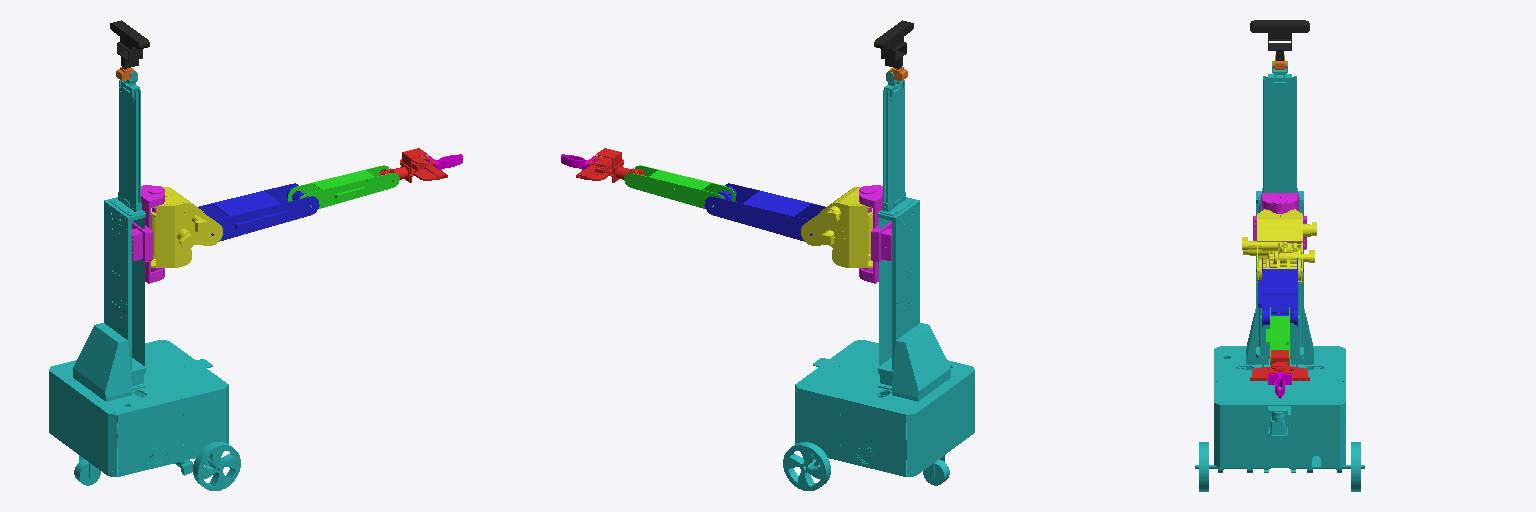
The robot description file, URDF, robot "XM_3_URDF_2":
<?xml version="1.0" ?>
<robot
  name="XM_3_URDF_2">

  <!--link base_link-->
  <link
    name="base_link">
    <inertial>
      <origin
        xyz="-0.03776 -0.00084976 0.016292"
        rpy="0 0 0" />
      <mass
        value="18.845" />
      <inertia
        ixx="1.4988"
        ixy="-0.0076372"
        ixz="-0.11172"
        iyy="1.5111"
        iyz="0.011979"
        izz="0.39888" />
    </inertial>
    <visual>
      <origin
        xyz="0 0 0"
        rpy="0 0 0" />
      <geometry>
        <mesh
          filename="package://xm_urdf/meshes/old_arm/base_link.STL" />
      </geometry>
      <material
        name="">
        <color
          rgba="0.2 0.75294 0.75294 1" />
      </material>
    </visual>
    <collision>
      <origin
        xyz="0 0 0"
        rpy="0 0 0" />
      <geometry>
        <mesh
          filename="package://xm_urdf/meshes/old_arm/base_link.STL" />
      </geometry>
    </collision>
  </link>

<!--link : link_elecatork-->
  <link
    name="link_elecator">
    <inertial>
      <origin
        xyz="0.042541 1.0533E-10 0.0015023"
        rpy="0 0 0" />
      <mass
        value="3.259" />
      <inertia
        ixx="0.022091"
        ixy="-2.6206E-16"
        ixz="0.00039271"
        iyy="0.020562"
        iyz="-7.2237E-17"
        izz="0.0089044" />
    </inertial>
    <visual>
      <origin
        xyz="0 0 0"
        rpy="0 0 0" />
      <geometry>
        <mesh
          filename="package://xm_urdf/meshes/old_arm/link_elecator.STL" />
      </geometry>
      <material
        name="">
        <color
          rgba="0.89804 0.2 0.92941 1" />
      </material>
    </visual>
    <collision>
      <origin
        xyz="0 0 0"
        rpy="0 0 0" />
      <geometry>
        <mesh
          filename="package://xm_urdf/meshes/old_arm/link_elecator.STL" />
      </geometry>
    </collision>
  </link>

<!--joint : joint_elecator-->
<!--parent:base_link-->
<!--child: link_elecator-->
  <joint
    name="joint_elecator"
    type="prismatic">
    <origin
      xyz="-0.057235 0 0.15056"
      rpy="-3.8337E-16 2.2077E-17 1.4935E-14" />
    <parent
      link="base_link" />
    <child
      link="link_elecator" />
    <axis
      xyz="0 0 -1" />
    <limit
      lower="-0.14"
      upper="-0.5"
      effort="0"
      velocity="0" />
  </joint>

<!--link : link_waist-->

  <link
    name="link_waist">
    <inertial>
      <origin
        xyz="0.073302 0.00035771 0.004568"
        rpy="0 0 0" />
      <mass
        value="2.6855" />
      <inertia
        ixx="0.015465"
        ixy="0.00013759"
        ixz="-0.00086987"
        iyy="0.018699"
        iyz="8.736E-05"
        izz="0.014831" />
    </inertial>
    <visual>
      <origin
        xyz="0 0 0"
        rpy="0 0 0" />
      <geometry>
        <mesh
          filename="package://xm_urdf/meshes/old_arm/link_waist.STL" />
      </geometry>
      <material
        name="">
        <color
          rgba="0.89804 0.91765 0.2 1" />
      </material>
    </visual>
    <collision>
      <origin
        xyz="0 0 0"
        rpy="0 0 0" />
      <geometry>
        <mesh
          filename="package://xm_urdf/meshes/old_arm/link_waist.STL" />
      </geometry>
    </collision>
  </link>

<!--joint : joint_waist-->
<!--parent:link_elecator-->
<!--child:link_waist-->
  <joint
    name="joint_waist"
    type="revolute">
    <origin
      xyz="0.105 0 0.0035"
      rpy="6.8618E-17 6.2554E-31 -1.6061E-15" />
    <parent
      link="link_elecator" />
    <child
      link="link_waist" />
    <axis
      xyz="0 0 1" />
    <limit
      lower="-1.04"
      upper="1.04"
      effort="0"
      velocity="0" />
  </joint>

  <!--link : link_big_arm-->
  <link
    name="link_big_arm">
    <inertial>
      <origin
        xyz="0.1981 -0.0038857 0.0039628"
        rpy="0 0 0" />
      <mass
        value="1.0832" />
      <inertia
        ixx="0.0026099"
        ixy="0.00013064"
        ixz="0.00027499"
        iyy="0.014832"
        iyz="2.6134E-06"
        izz="0.016351" />
    </inertial>
    <visual>
      <origin
        xyz="0 0 0"
        rpy="0 0 0" />
      <geometry>
        <mesh
          filename="package://xm_urdf/meshes/old_arm/link_big_arm.STL" />
      </geometry>
      <material
        name="">
        <color
          rgba="0.2 0.2 0.92941 1" />
      </material>
    </visual>
    <collision>
      <origin
        xyz="0 0 0"
        rpy="0 0 0" />
      <geometry>
        <mesh
          filename="package://xm_urdf/meshes/old_arm/link_big_arm.STL" />
      </geometry>
    </collision>
  </link>

<!--joint:joint_big_arm-->
<!--parent:link_waist-->
<!--child:link_big_arm-->

  <joint
    name="joint_big_arm"
    type="revolute">
    <origin
      xyz="0.15678 0 -0.0215"
      rpy="7.9575E-19 1.2761E-15 1.7823E-18" />
    <parent
      link="link_waist" />
    <child
      link="link_big_arm" />
    <axis
      xyz="0 -1 0" />
    <limit
      lower="-1.57"
      upper="1.57"
      effort="0"
      velocity="0" />
  </joint>

<!--link :link_forearm-->

  <link
    name="link_forearm">
    <inertial>
      <origin
        xyz="0.13987 -0.00071189 0.0027737"
        rpy="0 0 0" />
      <mass
        value="0.49305" />
      <inertia
        ixx="0.00053223"
        ixy="-3.1954E-06"
        ixz="7.0538E-05"
        iyy="0.0038625"
        iyz="-7.2409E-08"
        izz="0.0040628" />
    </inertial>
    <visual>
      <origin
        xyz="0 0 0"
        rpy="0 0 0" />
      <geometry>
        <mesh
          filename="package://xm_urdf/meshes/old_arm/link_forearm.STL" />
      </geometry>
      <material
        name="">
        <color
          rgba="0.2 0.91765 0.2 1" />
      </material>
    </visual>
    <collision>
      <origin
        xyz="0 0 0"
        rpy="0 0 0" />
      <geometry>
        <mesh
          filename="package://xm_urdf/meshes/old_arm/link_forearm.STL" />
      </geometry>
    </collision>
  </link>

<!--joint:joint_forearm-->
<!--parent:link_big_arm-->
<!--child:link_forearm-->

  <joint
    name="joint_forearm"
    type="revolute">
    <origin
      xyz="0.34993 0 0.007"
      rpy="-7.9575E-19 2.498E-16 -1.41E-16" />
    <parent
      link="link_big_arm" />
    <child
      link="link_forearm" />
    <axis
      xyz="0 -1 0" />
    <limit
      lower="-2.4"
      upper="2.4"
      effort="0"
      velocity="0" />
  </joint>

<!--link: link_wrist_pitching-->

  <link
    name="link_wrist_pitching">
    <inertial>
      <origin
        xyz="0.00026963 1.305E-06 -5.9807E-09"
        rpy="0 0 0" />
      <mass
        value="0.061446" />
      <inertia
        ixx="1.8713E-05"
        ixy="-1.966E-11"
        ixz="2.848E-12"
        iyy="3.8634E-06"
        iyz="-4.7509E-13"
        izz="1.8809E-05" />
    </inertial>
    <visual>
      <origin
        xyz="0 0 0"
        rpy="0 0 0" />
      <geometry>
        <mesh
          filename="package://xm_urdf/meshes/old_arm/link_wrist_pitching.STL" />
      </geometry>
      <material
        name="">
        <color
          rgba="0.9 0.2 0.2 1" />
      </material>
    </visual>
    <collision>
      <origin
        xyz="0 0 0"
        rpy="0 0 0" />
      <geometry>
        <mesh
          filename="package://xm_urdf/meshes/old_arm/link_wrist_pitching.STL" />
      </geometry>
    </collision>
  </link>

<!--joint:joint_wrist_pitching-->
<!--parent:link_forearm-->
<!--child:link_wrist_pitching-->

  <joint
    name="joint_wrist_pitching"
    type="revolute">
    <origin
      xyz="0.29994 0 0.006"
      rpy="-8.7263E-32 -1.3878E-16 1.3922E-16" />
    <parent
      link="link_forearm" />
    <child
      link="link_wrist_pitching" />
    <axis
      xyz="0 1 0" />
    <limit
      lower="-1.57"
      upper="1.57"
      effort="0"
      velocity="0" />
  </joint>

  <!--link: link_wrist_rotation-->
  <link
    name="link_wrist_rotation">
    <inertial>
      <origin
        xyz="0.041451 0.0036734 0.0066551"
        rpy="0 0 0" />
      <mass
        value="0.37001" />
      <inertia
        ixx="0.00049563"
        ixy="6.5715E-06"
        ixz="-1.9426E-05"
        iyy="0.00044476"
        iyz="-9.3638E-06"
        izz="0.00072614" />
    </inertial>
    <visual>
      <origin
        xyz="0 0 0"
        rpy="0 0 0" />
      <geometry>
        <mesh
          filename="package://xm_urdf/meshes/old_arm/link_wrist_rotation.STL" />
      </geometry>
      <material
        name="">
        <color
          rgba="0.9 0.2 0.2 1" />
      </material>
    </visual>
    <collision>
      <origin
        xyz="0 0 0"
        rpy="0 0 0" />
      <geometry>
        <mesh
          filename="package://xm_urdf/meshes/old_arm/link_wrist_rotation.STL" />
      </geometry>
    </collision>
  </link>

  <!--joint:joint_wrist_rotation-->
  <!--parent:link_wrist_pitching-->
  <!--child:link_wrist_rotation-->
  <joint
    name="joint_wrist_rotation"
    type="revolute">
    <origin
      xyz="0.061043 0 0"
      rpy="-5.2036E-17 1.5448E-16 0" />
    <parent
      link="link_wrist_pitching" />
    <child
      link="link_wrist_rotation" />
    <axis
      xyz="1 0 0" />
    <limit
      lower="-3.14"
      upper="3.14"
      effort="0"
      velocity="0" />
  </joint>

  <!--link:link_Left_Finger-->
  <link
    name="link_Left_Finger">
    <inertial>
      <origin
        xyz="0.020988 0.012659 -0.015939"
        rpy="0 0 0" />
      <mass
        value="0.024166" />
      <inertia
        ixx="3.8547E-06"
        ixy="-3.2779E-06"
        ixz="-1.8373E-06"
        iyy="2.7619E-05"
        iyz="2.8362E-07"
        izz="2.7872E-05" />
    </inertial>
    <visual>
      <origin
        xyz="0 0 0"
        rpy="0 0 0" />
      <geometry>
        <mesh
          filename="package://xm_urdf/meshes/old_arm/link_Left_Finger.STL" />
      </geometry>
      <material
        name="">
        <color
          rgba="0.94 0 0.94 1" />
      </material>
    </visual>
    <collision>
      <origin
        xyz="0 0 0"
        rpy="0 0 0" />
      <geometry>
        <mesh
          filename="package://xm_urdf/meshes/old_arm/link_Left_Finger.STL" />
      </geometry>
    </collision>
  </link>

  <!--joint-->
  <joint
    name="joint_Left_Finger"
    type="prismatic">
    <origin
      xyz="0.104 0.0012665 0.0185"
      rpy="2.6888E-16 0 0" />
    <parent
      link="link_wrist_rotation" />
    <child
      link="link_Left_Finger" />
    <axis
      xyz="0 -1 0" />
    <limit
      lower="-0.05"
      upper="0"
      effort="0"
      velocity="0" />
  </joint>

  <!--link-->
  <link
    name="link_Rihgt_finger">
    <inertial>
      <origin
        xyz="0.020988 -0.012659 -0.01594"
        rpy="0 0 0" />
      <mass
        value="0.024166" />
      <inertia
        ixx="3.8548E-06"
        ixy="3.2779E-06"
        ixz="-1.8372E-06"
        iyy="2.7619E-05"
        iyz="-2.8386E-07"
        izz="2.7872E-05" />
    </inertial>
    <visual>
      <origin
        xyz="0 0 0"
        rpy="0 0 0" />
      <geometry>
        <mesh
          filename="package://xm_urdf/meshes/old_arm/link_Rihgt_finger.STL" />
      </geometry>
      <material
        name="">
        <color
          rgba="0.94 0 0.94 1" />
      </material>
    </visual>
    <collision>
      <origin
        xyz="0 0 0"
        rpy="0 0 0" />
      <geometry>
        <mesh
          filename="package://xm_urdf/meshes/old_arm/link_Rihgt_finger.STL" />
      </geometry>
    </collision>
  </link>
<!--joint-->
  <joint
    name="joint_Rihgt_finger"
    type="prismatic">
    <origin
      xyz="0.104 -0.0012665 0.0185"
      rpy="3.0821E-14 -1.5637E-15 6.4697E-17" />
    <parent
      link="link_wrist_rotation" />
    <child
      link="link_Rihgt_finger" />
    <axis
      xyz="0 -1 0" />
    <limit
      lower="0"
      upper="0.05"
      effort="0"
      velocity="0" />
  </joint>

  <!--link-->
  <link
    name="link_PTZ_Y">
    <inertial>
      <origin
        xyz="-0.013205 -2.2204E-16 0.0023935"
        rpy="0 0 0" />
      <mass
        value="0.051533" />
      <inertia
        ixx="9.5339E-06"
        ixy="-4.7384E-20"
        ixz="-2.2135E-07"
        iyy="1.385E-05"
        iyz="5.7514E-22"
        izz="1.4695E-05" />
    </inertial>
    <visual>
      <origin
        xyz="0 0 0"
        rpy="0 0 0" />
      <geometry>
        <mesh
          filename="package://xm_urdf/meshes/old_arm/link_PTZ_Y.STL" />
      </geometry>
      <material
        name="">
        <color
          rgba="0.9 0.5 0.2 1" />
      </material>
    </visual>
    <collision>
      <origin
        xyz="0 0 0"
        rpy="0 0 0" />
      <geometry>
        <mesh
          filename="package://xm_urdf/meshes/old_arm/link_PTZ_Y.STL" />
      </geometry>
    </collision>
  </link>

  <!--joint-->
  <joint
    name="joint_PTZ_Y"
    type="revolute">
    <origin
      xyz="-0.042735 0 1.02"
      rpy="-6.1232E-17 1.5434E-14 1.088E-14" />
    <parent
      link="base_link" />
    <child
      link="link_PTZ_Y" />
    <axis
      xyz="0 1 0" />
    <limit
      lower="-1.04"
      upper="1.04"
      effort="0"
      velocity="0" />
  </joint>

  <!--link-->
  <link
    name="link_Kinect">
    <inertial>
      <origin
        xyz="-0.018191 -1.1102E-16 -0.022845"
        rpy="0 0 0" />
      <mass
        value="0.23988" />
      <inertia
        ixx="0.00071306"
        ixy="4.4067E-18"
        ixz="-4.7665E-07"
        iyy="0.00032244"
        iyz="5.003E-20"
        izz="0.00045575" />
    </inertial>
    <visual>
      <origin
        xyz="0 0 0"
        rpy="0 0 0" />
      <geometry>
        <mesh
          filename="package://xm_urdf/meshes/old_arm/link_Kinect.STL" />
      </geometry>
      <material
        name="">
        <color
          rgba="0.2 0.2 0.2 1" />
      </material>
    </visual>
    <collision>
      <origin
        xyz="0 0 0"
        rpy="0 0 0" />
      <geometry>
        <mesh
          filename="package://xm_urdf/meshes/old_arm/link_Kinect.STL" />
      </geometry>
    </collision>

    <!--joint-->
  </link>
  <joint
    name="joint_Kinect"
    type="revolute">
    <origin
      xyz="0.017 0 0.1265"
      rpy="-3.0177E-33 0 0" />
    <parent
      link="link_PTZ_Y" />
    <child
      link="link_Kinect" />
    <axis
      xyz="0 0 1" />
    <limit
      lower="-1.57"
      upper="1.57"
      effort="0"
      velocity="0" />
  </joint>
  
  <joint
    name="gripper_joint" type="fixed">
    <origin rpy="-1.570795 0 0" xyz="0.05 0 -0.008"/>
    <parent link="link_wrist_rotation"/>
    <child link="gripper_link"/>
  </joint>

  <link 
    name="gripper_link">
    <visual>
      <origin rpy="0 0 0" xyz="-0.05 0 0"/>
      <geometry>
        <box size="0.001 0.001 0.001"/>
      </geometry>
    </visual>
    <collision>
      <origin rpy="0 0 0" xyz="-0.05 0 0"/>
      <geometry>
        <box size="0.001 0.001 0.001"/>
      </geometry>
    </collision>
    <!--inertial>
         <mass value="0.0012" />
         <origin xyz="0 0 0"/>
         <inertia ixx="2e-8" ixy="0.0" ixz="0.0"
          iyy="2e-8" iyz="0.0"
          izz="2e-8" />
      </inertial -->
  </link>
</robot>

--- Render facts (derived) ---
3 views of the same robot in one strip: view 1: azimuth 30°, elevation 25°; view 2: azimuth 150°, elevation 25°; view 3: azimuth 270°, elevation 25° (orthographic).
Model XM_3_URDF_2 with 12 links and 11 joints (7 revolute, 3 prismatic, 1 fixed), rooted at base_link, posed all joints at 0 but 1 set to mid-range because 0 is outside their limits (joint_elecator = -0.32).
Links seen in each view (by area): view 1: base_link, link_waist, link_big_arm, link_forearm, link_elecator, link_wrist_rotation, link_Kinect; view 2: base_link, link_waist, link_big_arm, link_forearm, link_elecator, link_wrist_rotation, link_Kinect; view 3: base_link, link_waist, link_big_arm, link_Kinect, link_elecator, link_wrist_rotation, link_forearm.
Link boxes in pixels (x1,y1,x2,y2): base_link: [49, 72, 240, 490]; link_waist: [151, 186, 222, 267]; link_big_arm: [198, 183, 319, 241]; link_forearm: [288, 165, 399, 208]; link_elecator: [132, 185, 164, 283]; link_wrist_rotation: [389, 148, 447, 182]; link_Kinect: [110, 20, 149, 68]; base_link: [783, 72, 974, 490]; link_waist: [801, 187, 872, 267]; link_big_arm: [704, 183, 825, 241]; link_forearm: [624, 165, 735, 208]; link_elecator: [859, 185, 891, 283]; link_wrist_rotation: [576, 148, 634, 182]; link_Kinect: [874, 20, 913, 68]; base_link: [1195, 61, 1364, 491]; link_waist: [1242, 209, 1316, 282]; link_big_arm: [1256, 258, 1303, 326]; link_Kinect: [1250, 20, 1309, 60]; link_elecator: [1253, 193, 1306, 266]; link_wrist_rotation: [1250, 350, 1309, 380]; link_forearm: [1260, 307, 1299, 365].
Size in the robot's own frame: 1.34 by 0.512 by 1.47 metres.
11 mesh visuals loaded from 11 distinct referenced files (11 binary STL).